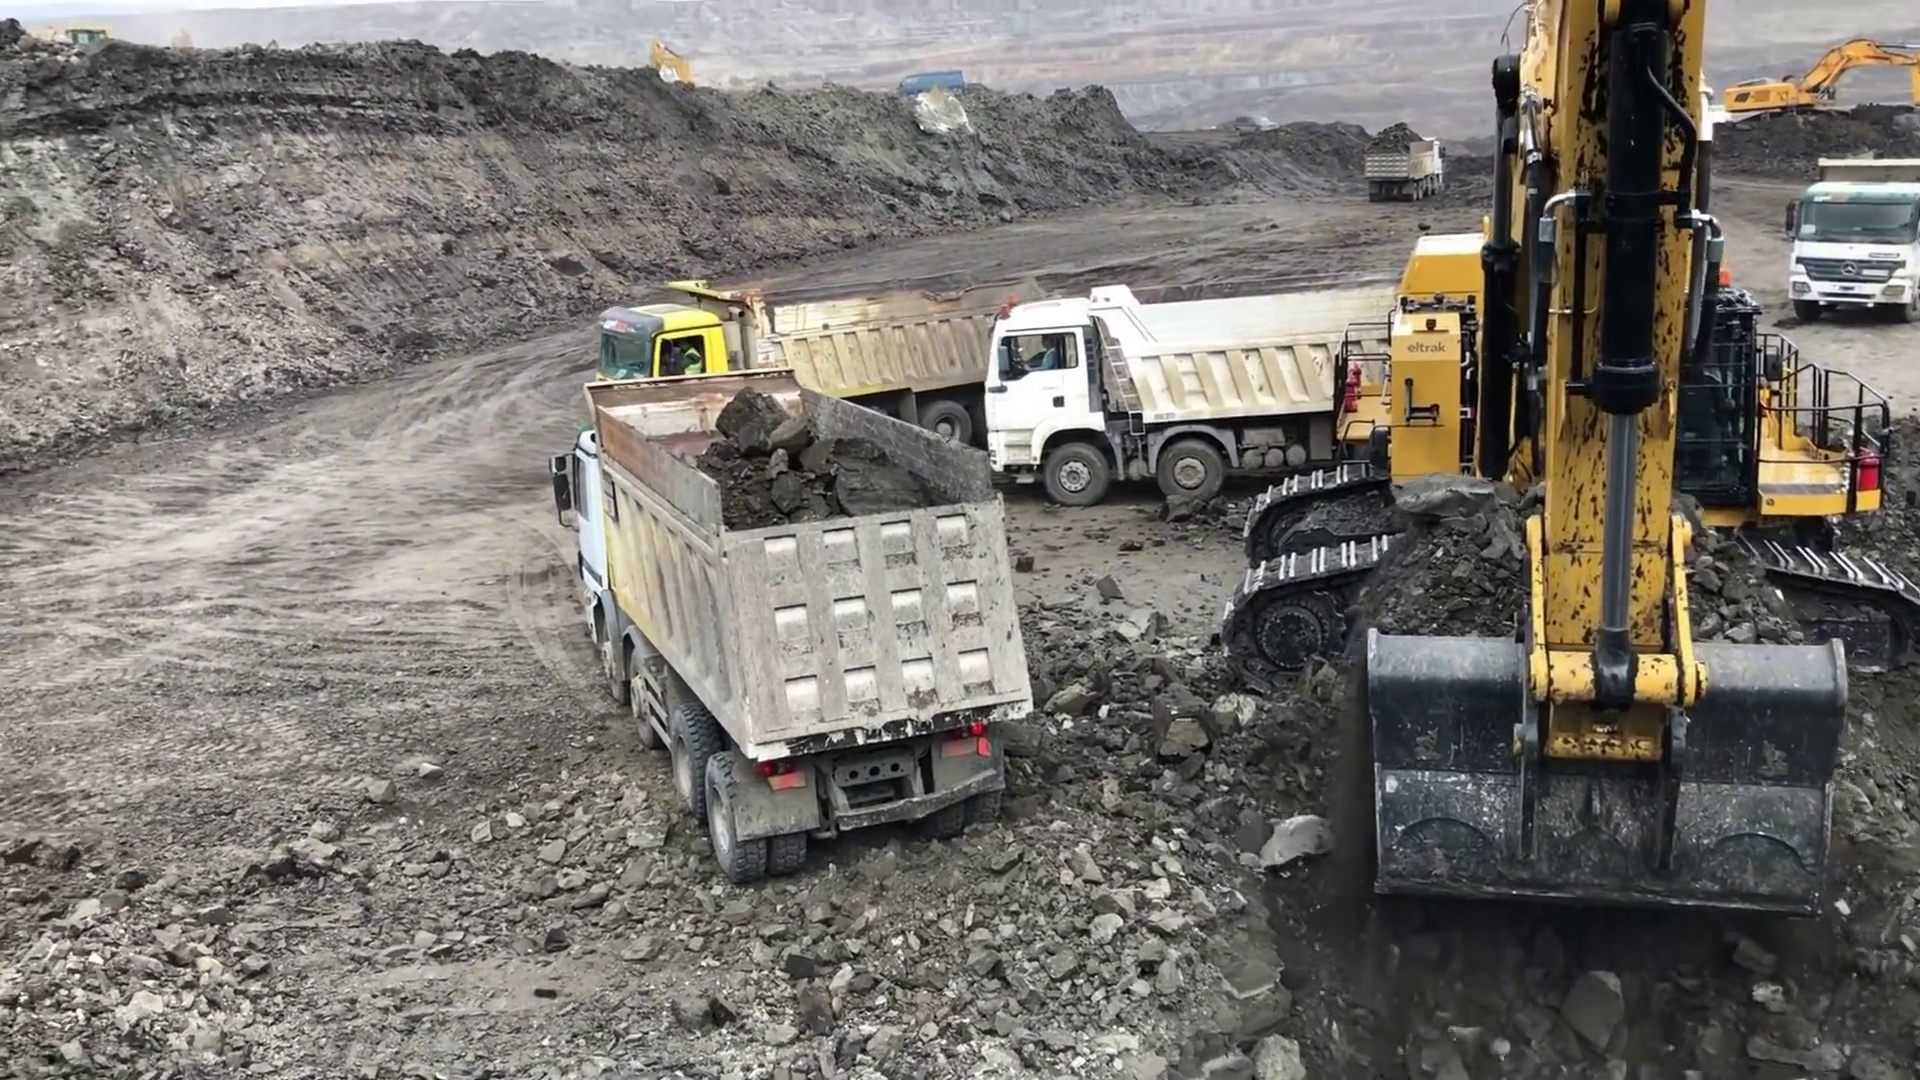excavator: (1222, 1, 1899, 942), (1724, 26, 1920, 128)
truck: (556, 371, 1035, 882), (992, 293, 1473, 510), (592, 261, 1054, 448), (1785, 146, 1920, 322), (1364, 125, 1447, 200), (893, 67, 973, 98)
